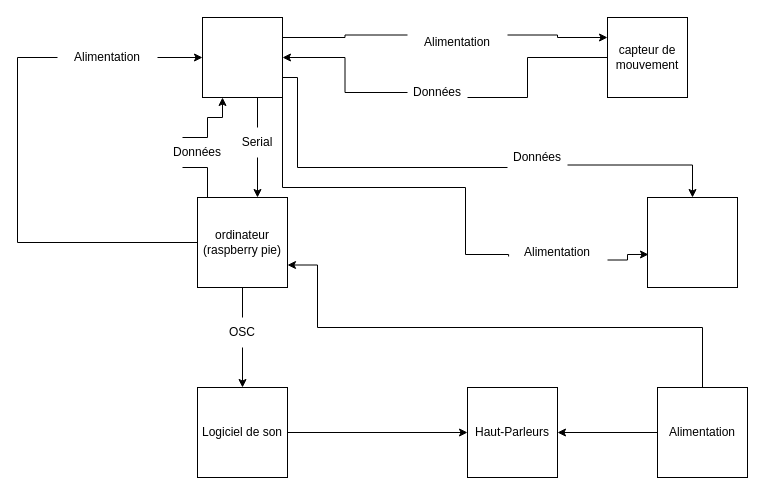
This 765x495 diagram has some shape labels left out. The shapes that lost their labels are listed below. From the top down, each one's centre as x and y in pixels, then its label:
At [242,57]: "arduino".
At [692,242]: "Bande DEL".
